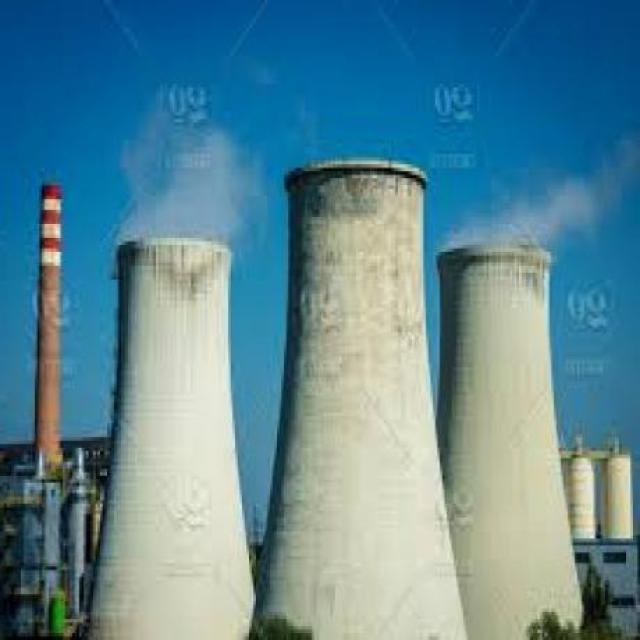Smoke: (105, 89, 272, 260), (438, 151, 640, 257)
